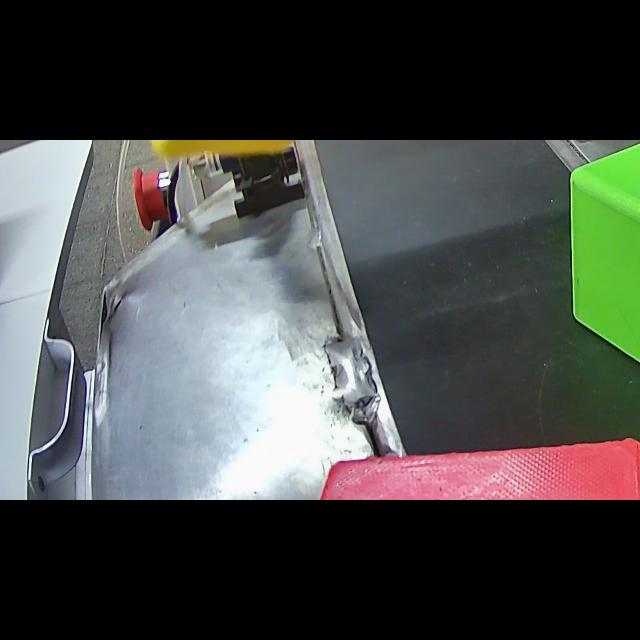greenBox: (564, 140, 640, 428)
redBox: (320, 432, 640, 500)
yellowBox: (77, 140, 447, 163)
